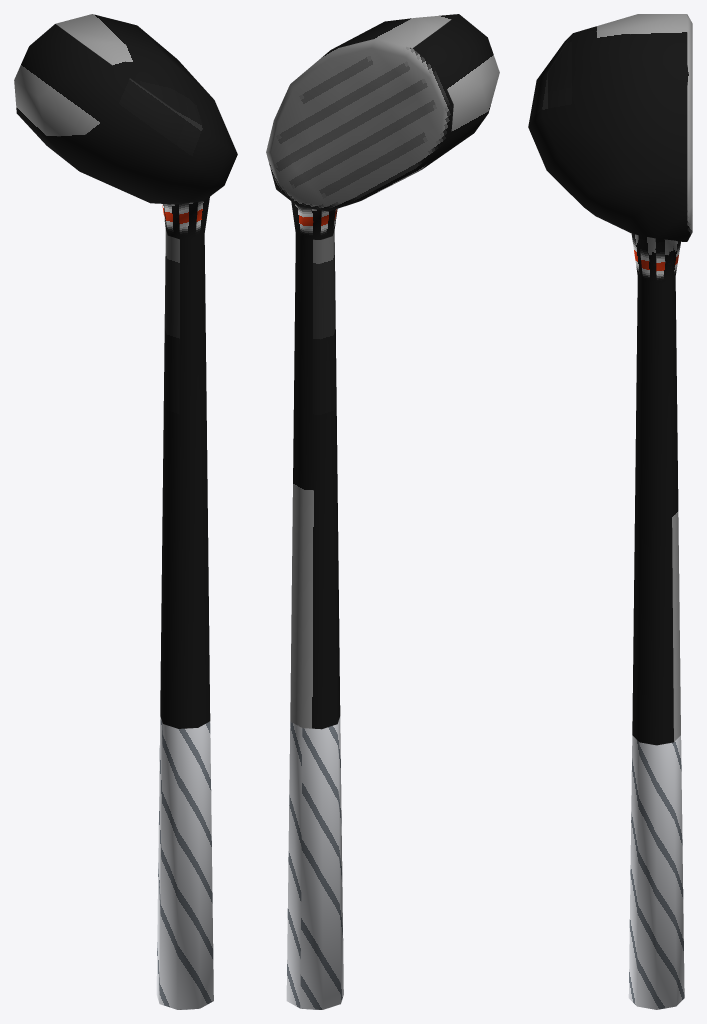
File: club_driver.glb
The picture shows the model from 3 angles, left to right: view 1: azimuth 30°, elevation 25°; view 2: azimuth 150°, elevation 25°; view 3: azimuth 270°, elevation 25°; orthographic projection. The views are drawn at different scales.
Parts seen in each view (by area): view 1: polygon0.008, polygon1.008; view 2: polygon0.008, polygon1.008; view 3: polygon0.008, polygon1.008.
Boxes of the visible parts, box(x1,y1,x2,y2) form: polygon0.008: box(14, 14, 237, 728); polygon1.008: box(156, 717, 213, 1009); polygon0.008: box(266, 14, 499, 729); polygon1.008: box(286, 716, 343, 1009); polygon0.008: box(528, 14, 692, 745); polygon1.008: box(628, 735, 684, 1009).
Size of the model in its own units: 0.0171 by 0.0864 by 0.0137.
2 materials, 2 textured.
